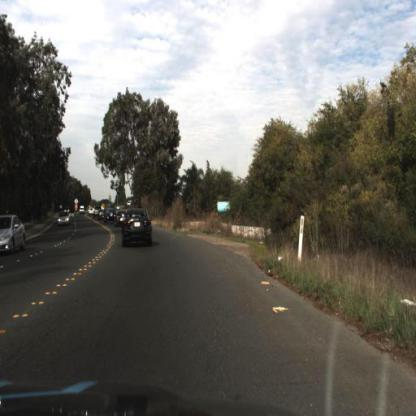car: (121, 206, 155, 251), (2, 212, 28, 260), (102, 201, 119, 228), (55, 209, 72, 229), (114, 207, 125, 232), (96, 202, 108, 223), (92, 206, 102, 222), (87, 203, 96, 217)
